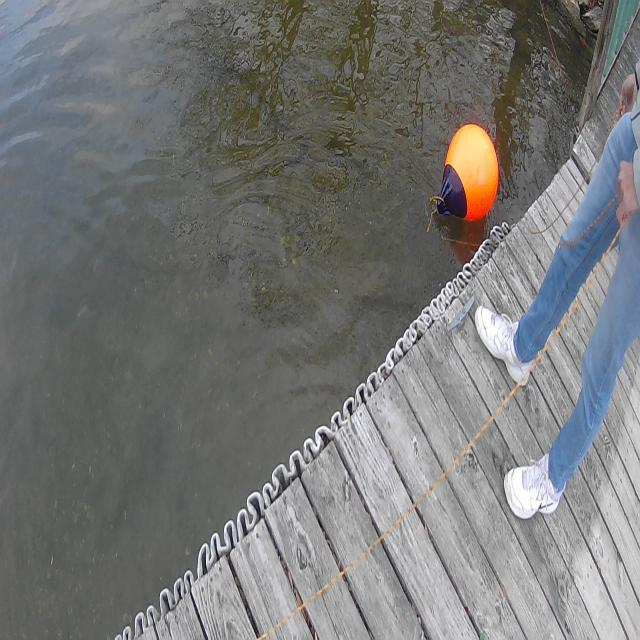Buoy: (433, 110, 500, 234)
